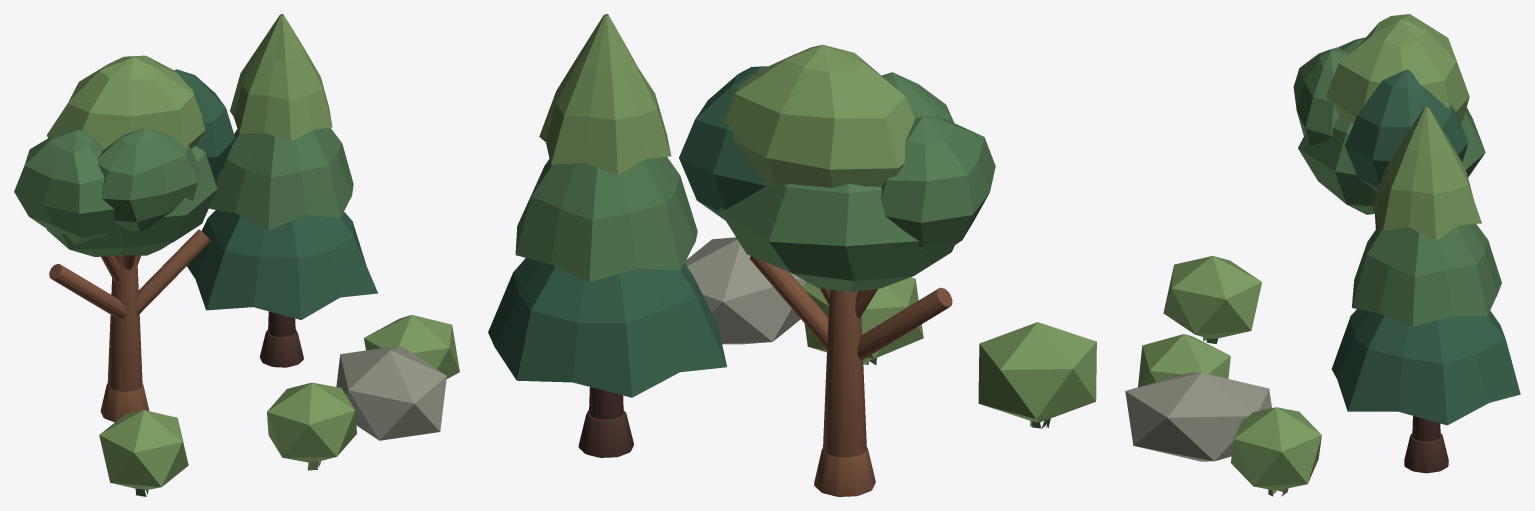
Rendered from forest.glb.
3 views of the same model, side by side, from view 1: azimuth 30°, elevation 25°; view 2: azimuth 150°, elevation 25°; view 3: azimuth 270°, elevation 25° (orthographic). The views are drawn at different scales.
Parts seen in each view (by area): view 1: forest · leaf_light, forest · leaf, forest · leaf_dark, forest · wood_light, forest · stone, forest · wood; view 2: forest · leaf_light, forest · leaf, forest · leaf_dark, forest · wood_light, forest · stone, forest · wood; view 3: forest · leaf_light, forest · leaf_dark, forest · leaf, forest · stone, forest · wood.
Part boxes in pixels (bbox=[...]): forest · leaf_light: bbox=[47, 14, 459, 490]; forest · leaf: bbox=[14, 127, 353, 496]; forest · leaf_dark: bbox=[174, 69, 377, 319]; forest · wood_light: bbox=[49, 229, 210, 422]; forest · stone: bbox=[336, 346, 446, 440]; forest · wood: bbox=[260, 311, 303, 367]; forest · leaf_light: bbox=[539, 14, 1096, 422]; forest · leaf: bbox=[515, 72, 1050, 428]; forest · leaf_dark: bbox=[488, 66, 767, 397]; forest · wood_light: bbox=[749, 256, 952, 496]; forest · stone: bbox=[685, 237, 808, 344]; forest · wood: bbox=[578, 387, 633, 457]; forest · leaf_light: bbox=[1138, 14, 1481, 490]; forest · leaf_dark: bbox=[1331, 69, 1520, 425]; forest · leaf: bbox=[1203, 37, 1501, 343]; forest · stone: bbox=[1125, 372, 1271, 461]; forest · wood: bbox=[1404, 416, 1448, 473].
Size of the model in its own units: 0.7923 by 0.6956 by 0.6849.
